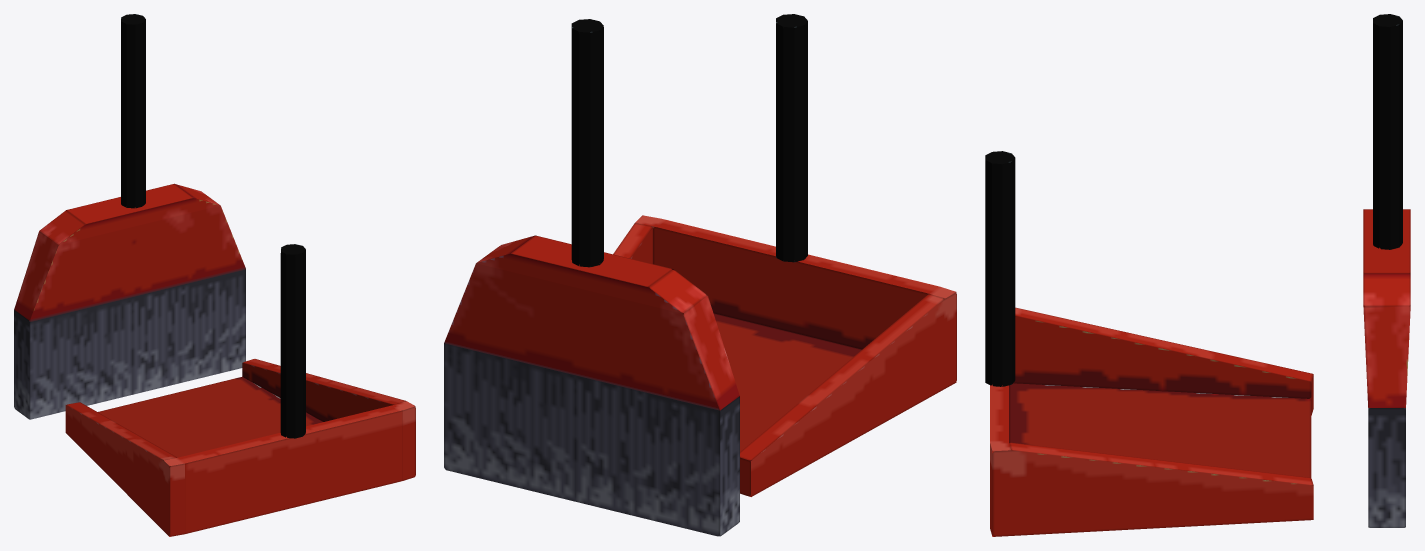
Rendered from collector.fbx.
The picture shows the model from 3 angles, left to right: view 1: azimuth 30°, elevation 25°; view 2: azimuth 150°, elevation 25°; view 3: azimuth 270°, elevation 25°; orthographic projection. The views are drawn at different scales.
Visible parts, largest first — view 1: cuboid_1, cuboid, cylinder, cylinder_1; view 2: cuboid_1, cuboid, cylinder_1, cylinder; view 3: cuboid, cuboid_1, cylinder, cylinder_1.
Boxes of the visible parts, x1,y1,x2,y2 form: cuboid_1: (14,183,245,419); cuboid: (65,359,415,536); cylinder: (280,244,305,438); cylinder_1: (121,14,145,208); cuboid_1: (444,235,739,536); cuboid: (613,215,956,496); cylinder_1: (571,19,603,267); cylinder: (776,14,807,262); cuboid: (990,307,1313,536); cuboid_1: (1363,209,1410,527); cylinder: (985,151,1015,386); cylinder_1: (1373,14,1402,249).
Size of the model in its own units: 114 by 162 by 141.
Materials: 1 (1 with a texture image).
